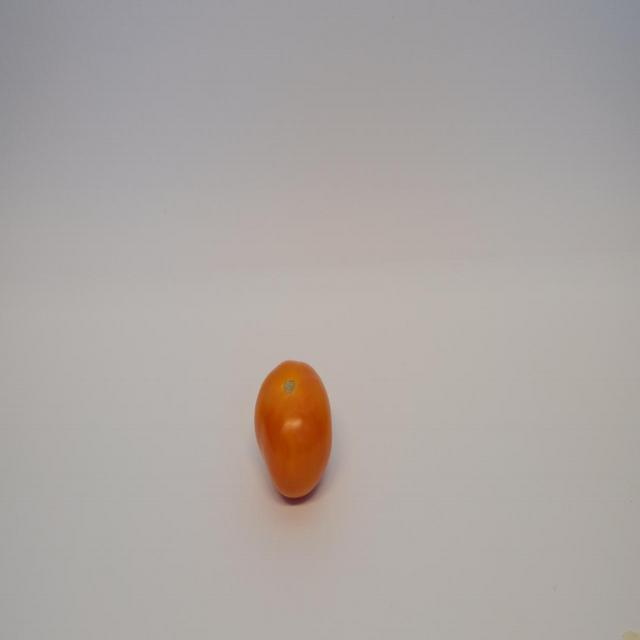tomato: (252, 355, 334, 504)
